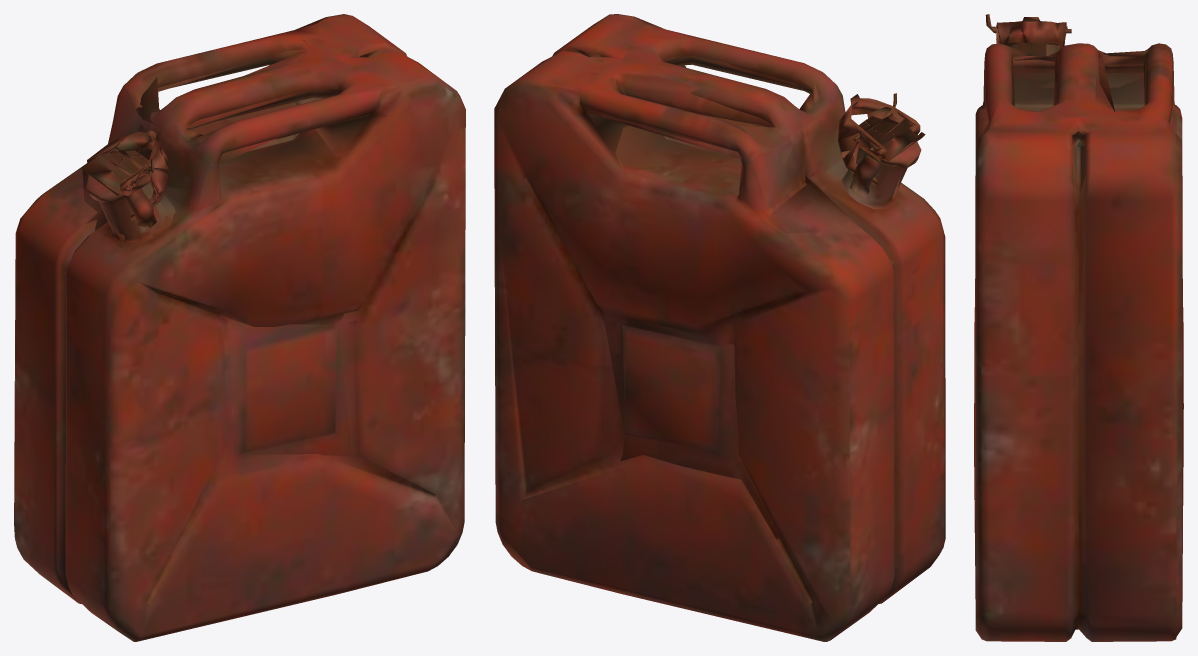
Rendered from metal_jerrycan.glb.
3 views of the same model, side by side, from view 1: azimuth 30°, elevation 25°; view 2: azimuth 150°, elevation 25°; view 3: azimuth 270°, elevation 25° (orthographic). The views are drawn at different scales.
Visible parts, largest first — view 1: metal_jerrycan, metal_jerrycan_lo; view 2: metal_jerrycan, metal_jerrycan_lo; view 3: metal_jerrycan, metal_jerrycan_lo.
Boxes of the visible parts, bbox=[...] form: metal_jerrycan: bbox=[14, 14, 465, 641]; metal_jerrycan_lo: bbox=[15, 17, 436, 568]; metal_jerrycan: bbox=[494, 14, 945, 641]; metal_jerrycan_lo: bbox=[540, 17, 917, 607]; metal_jerrycan: bbox=[974, 14, 1183, 641]; metal_jerrycan_lo: bbox=[982, 22, 1175, 629].
Size of the model in its own units: 0.3489 by 0.4548 by 0.1717.
Materials: 1 (1 with a texture image).
